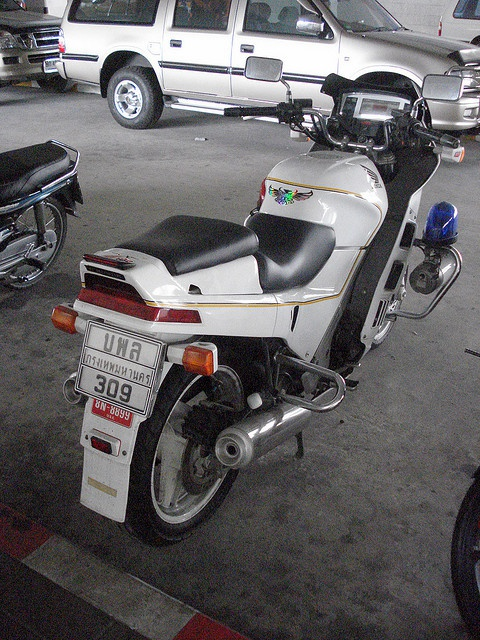non-vehicle: (43, 48, 465, 547), (2, 138, 89, 289)
